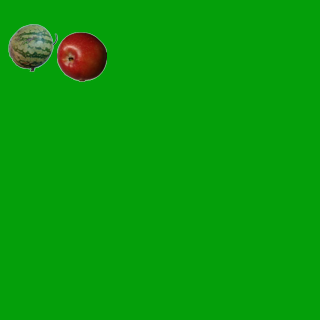Apple Braeburn: (56, 31, 106, 81)
Watermelon: (7, 22, 57, 72)
